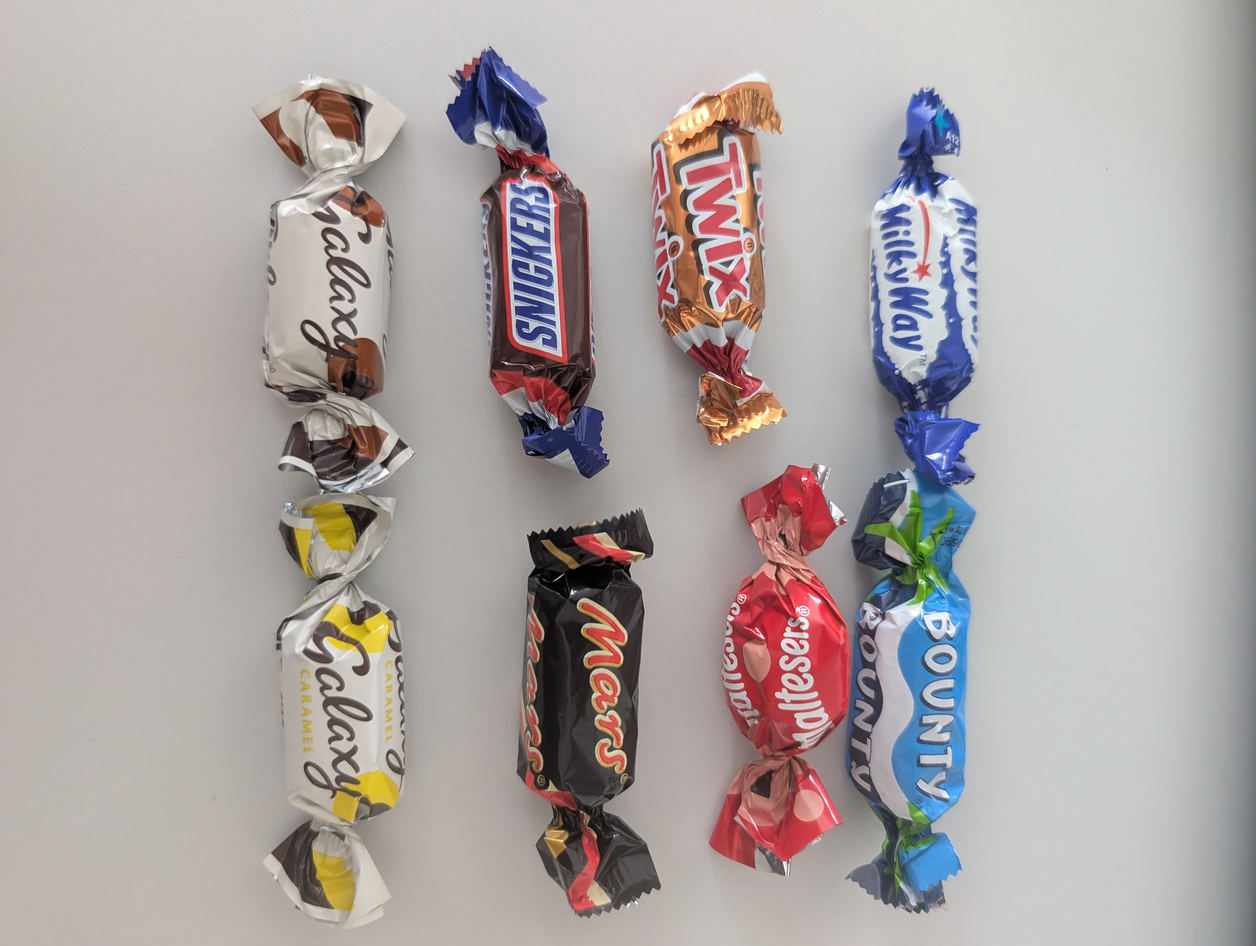Bounty: (851, 490, 972, 913)
Galaxy: (236, 49, 426, 497)
Galaxy_Caramel: (245, 504, 433, 920)
Maltesers: (717, 462, 837, 886)
Mars: (511, 511, 671, 916)
Milkyway: (859, 74, 995, 483)
Snickers: (437, 35, 646, 483)
Twix: (650, 39, 791, 455)
